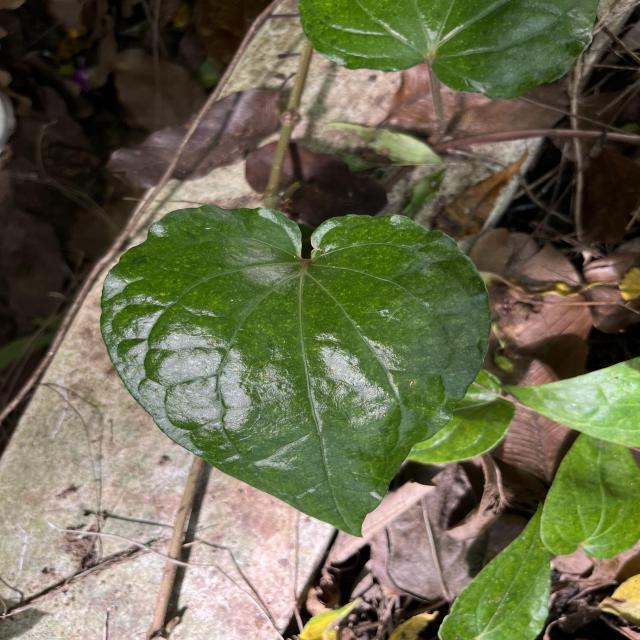Piper betle: (96, 199, 495, 543)
